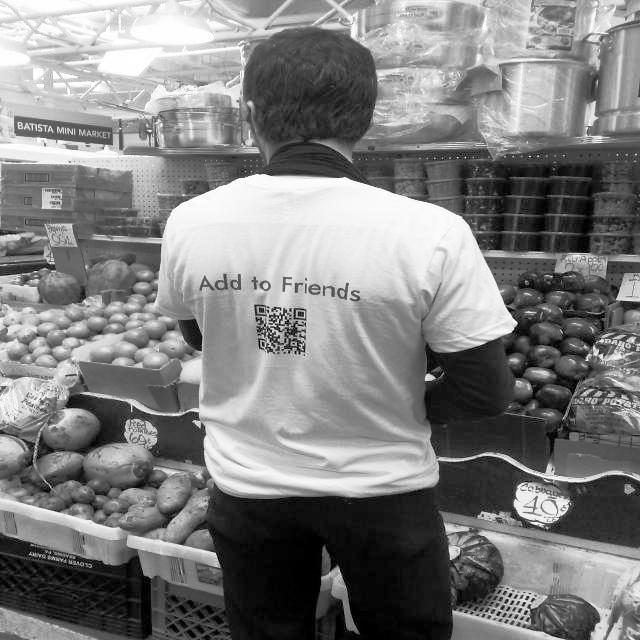qr_code: (255, 305, 306, 356)
